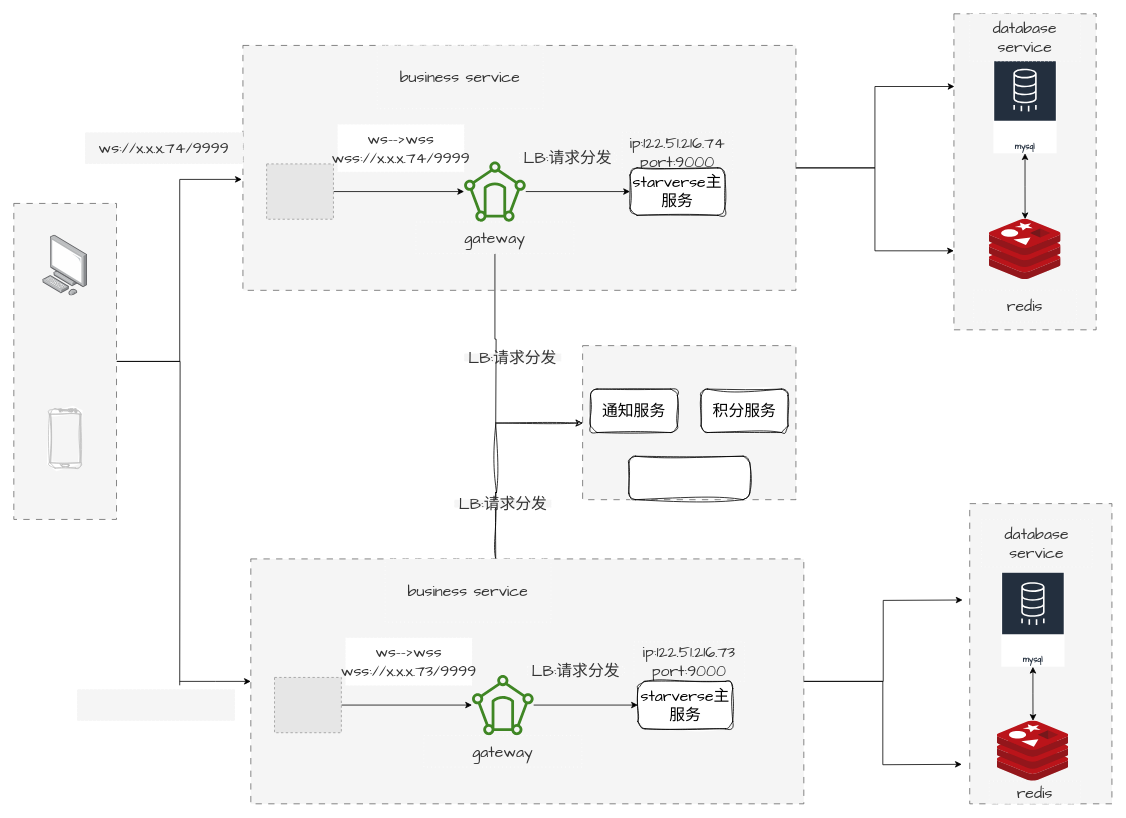
Image size: 1126x818. Some labels were removed from this diagram. Grey dashed boxes stand in for pictures. Here are the shapes that lost their labels. From the top down, the box of each, then its label:
(628, 455, 750, 500): 其他非核心服务
(76, 688, 235, 721): ws://x.x.x.73/9999
